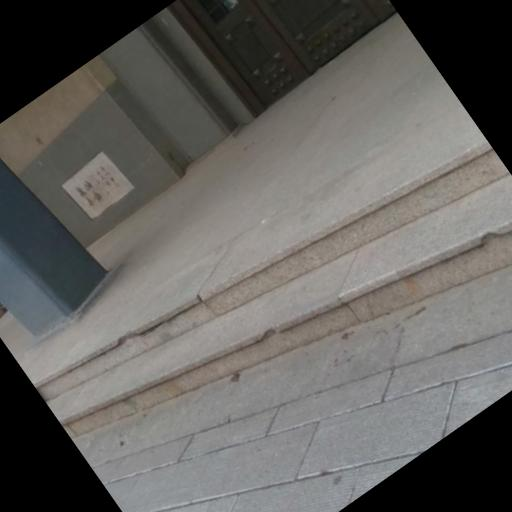stairs: (38, 141, 511, 438)
